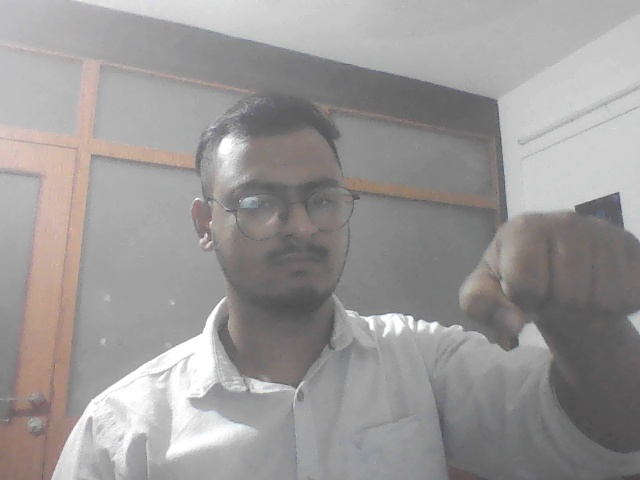YES: (450, 205, 640, 342)
